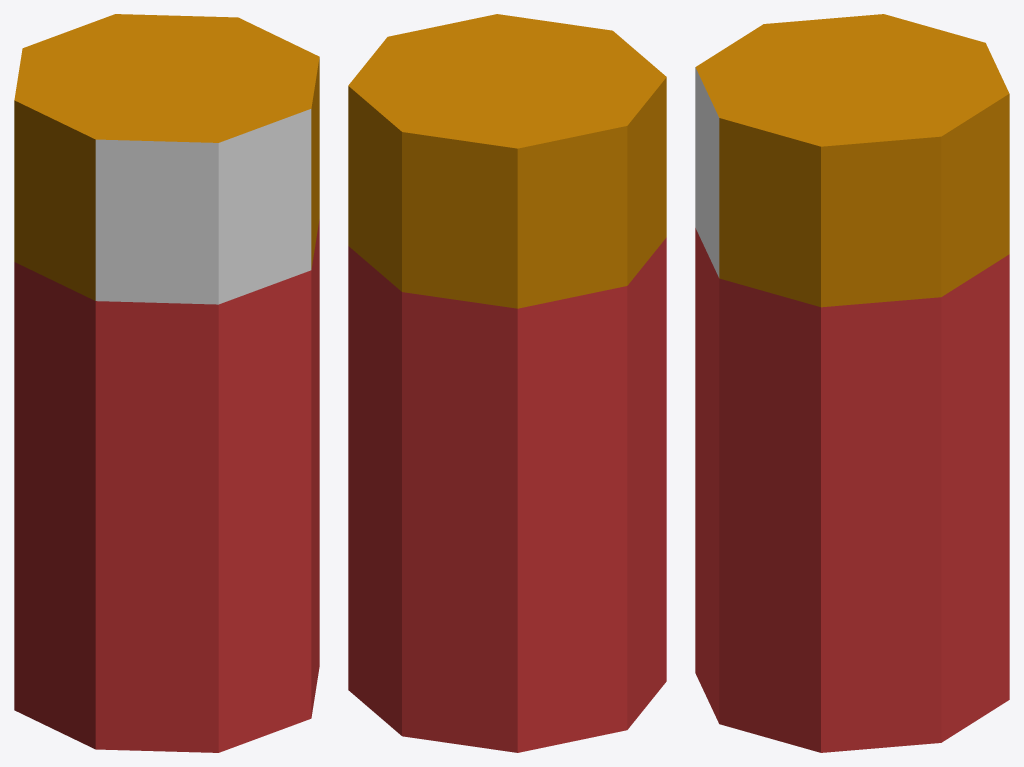
The model's file is battery_1.5V.fbx.
The picture shows the model from 3 angles, left to right: view 1: azimuth 30°, elevation 25°; view 2: azimuth 150°, elevation 25°; view 3: azimuth 270°, elevation 25°; orthographic projection.
Parts seen in each view (by area): view 1: 1_5_volt_battery_3; view 2: 1_5_volt_battery_3; view 3: 1_5_volt_battery_3.
Part boxes in pixels (x1,y1,x2,y2): 1_5_volt_battery_3: (14, 14, 319, 752); 1_5_volt_battery_3: (348, 14, 666, 752); 1_5_volt_battery_3: (695, 14, 1009, 752).
Size of the model in its own units: 7.64 by 16.28 by 7.64.
